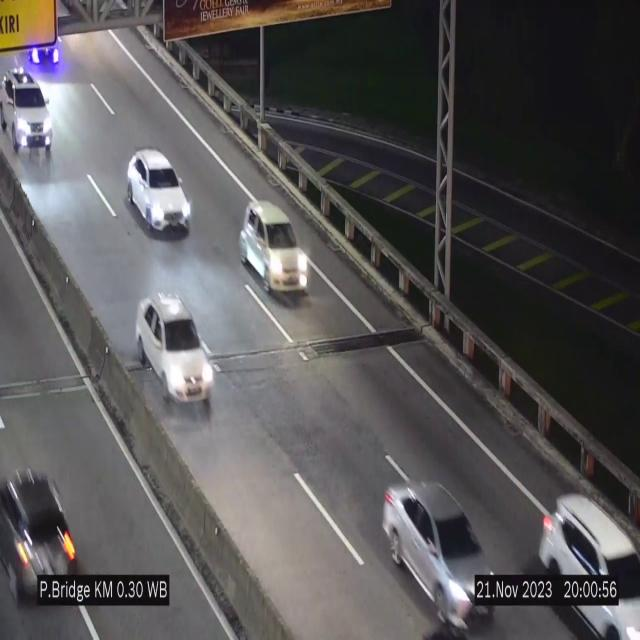Car: (376, 464, 504, 630), (534, 475, 639, 640), (0, 448, 86, 617), (135, 294, 213, 412), (240, 202, 308, 296), (127, 149, 191, 232), (0, 67, 58, 156), (28, 27, 68, 74)
